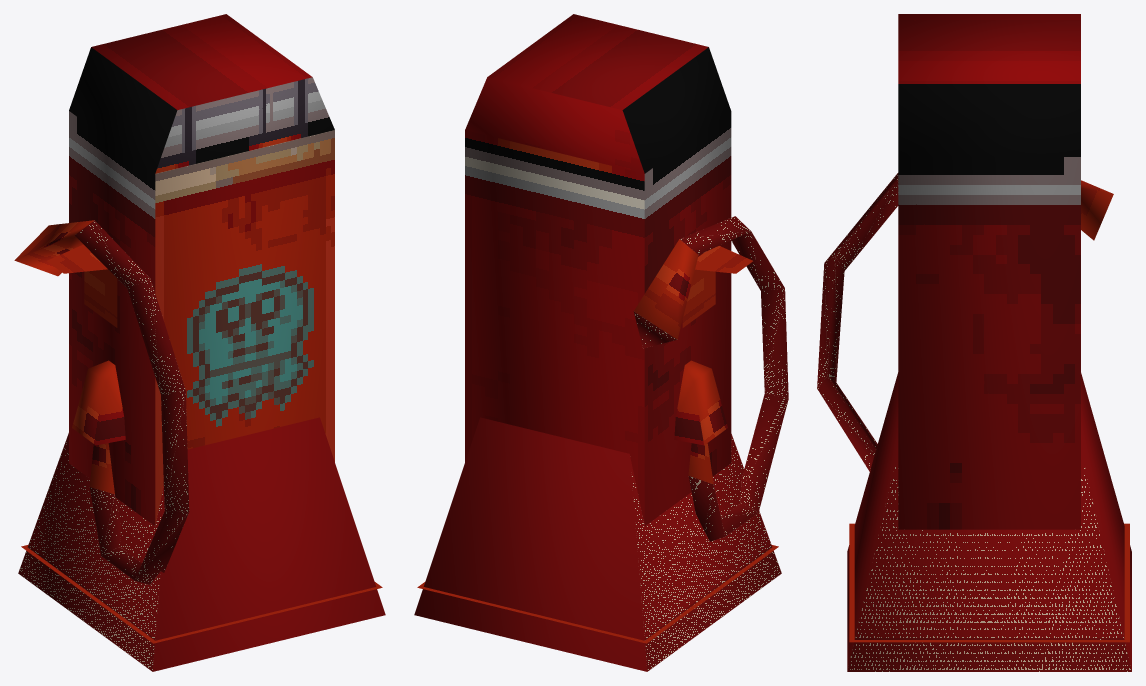
3 renders of one model, left to right at view 1: azimuth 30°, elevation 25°; view 2: azimuth 150°, elevation 25°; view 3: azimuth 270°, elevation 25°, orthographic. The views are drawn at different scales.
Visible parts, largest first — view 1: 3352IMIG13_03; view 2: 3352IMIG13_03; view 3: 3352IMIG13_03.
Part boxes in pixels (x1,y1,x2,y2): 3352IMIG13_03: (14, 14, 385, 671); 3352IMIG13_03: (414, 14, 788, 671); 3352IMIG13_03: (817, 14, 1131, 671).
Bounding box in the file's own units: 0.876 × 1.69 × 0.8577.
Materials: 2 (2 with a texture image).
